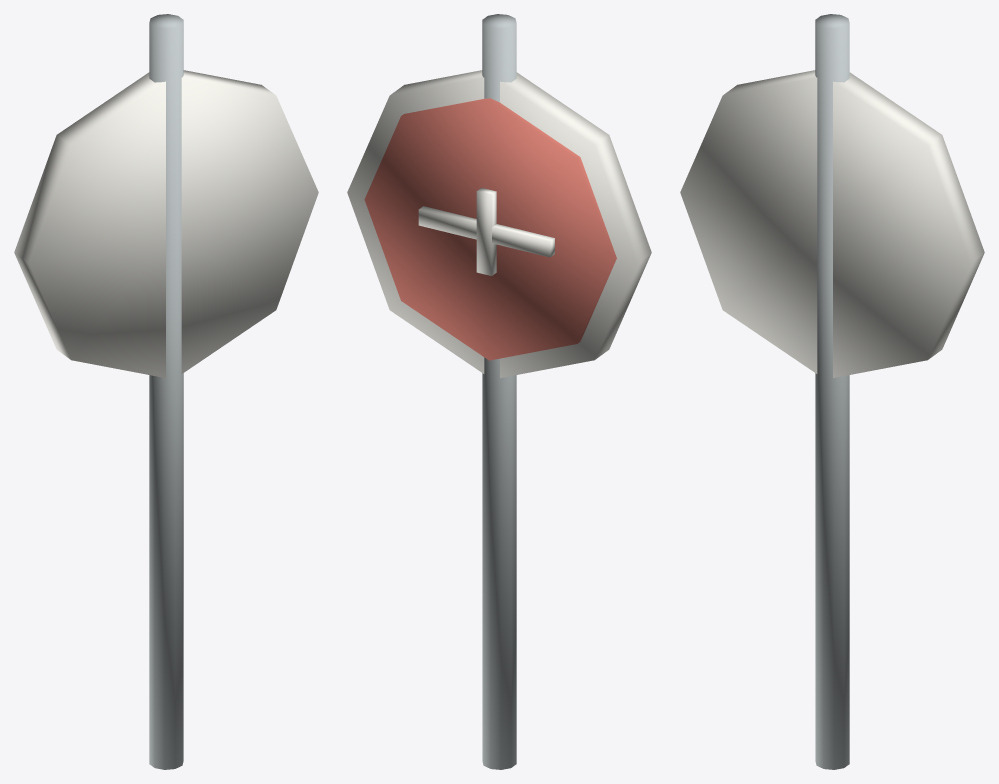
The model's file is Stop-sign.glb.
The picture shows the model from 3 angles, left to right: view 1: azimuth 30°, elevation 25°; view 2: azimuth 150°, elevation 25°; view 3: azimuth 330°, elevation 25°; orthographic projection.
Parts seen in each view (by area): view 1: stop_sign_mat_01_white_sign_border, stop_sign_mat_00_post; view 2: stop_sign_mat_02_red_sign_face, stop_sign_mat_01_white_sign_border, stop_sign_mat_00_post; view 3: stop_sign_mat_01_white_sign_border, stop_sign_mat_00_post.
Boxes of the visible parts, bbox=[...] form: stop_sign_mat_01_white_sign_border: bbox=[14, 70, 318, 377]; stop_sign_mat_00_post: bbox=[149, 14, 183, 769]; stop_sign_mat_02_red_sign_face: bbox=[364, 98, 616, 360]; stop_sign_mat_01_white_sign_border: bbox=[347, 70, 651, 377]; stop_sign_mat_00_post: bbox=[482, 14, 516, 769]; stop_sign_mat_01_white_sign_border: bbox=[680, 70, 984, 377]; stop_sign_mat_00_post: bbox=[815, 14, 849, 769].
Size of the model in its own units: 0.86 by 2.1 by 0.1235.
